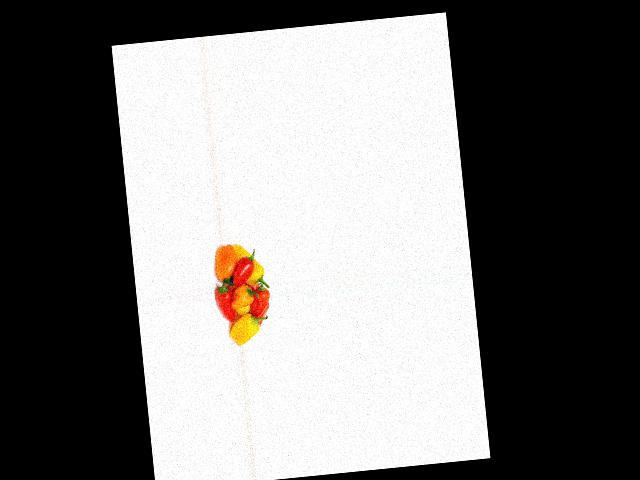bell_pepper: (233, 242, 268, 287)
